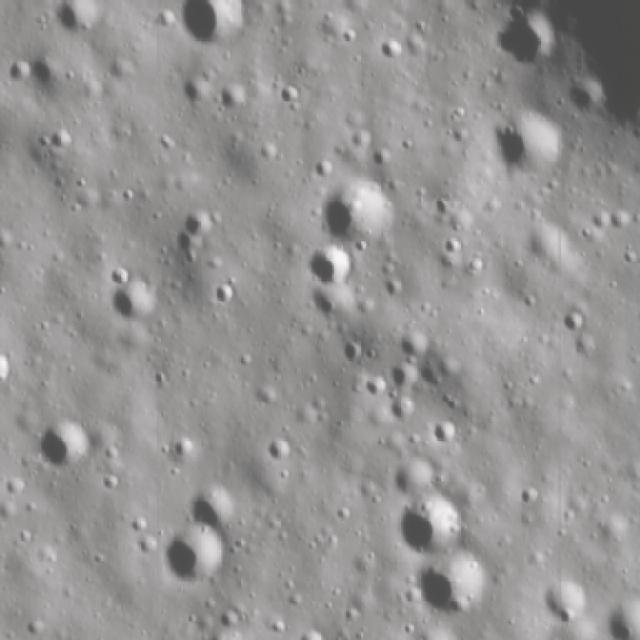crater: (483, 103, 563, 185), (320, 181, 397, 250), (160, 521, 226, 597), (389, 496, 469, 558), (488, 7, 560, 73), (419, 554, 487, 621), (36, 420, 101, 480), (179, 3, 252, 54), (181, 483, 239, 540), (378, 452, 440, 501), (109, 284, 162, 334), (301, 248, 356, 294), (537, 583, 588, 626), (386, 356, 423, 402), (50, 2, 99, 36), (214, 78, 254, 117), (378, 398, 418, 432), (172, 73, 205, 110), (552, 305, 590, 337), (426, 417, 460, 451), (165, 430, 198, 464), (44, 126, 79, 157), (260, 435, 292, 468), (278, 83, 304, 114), (212, 279, 236, 306)
